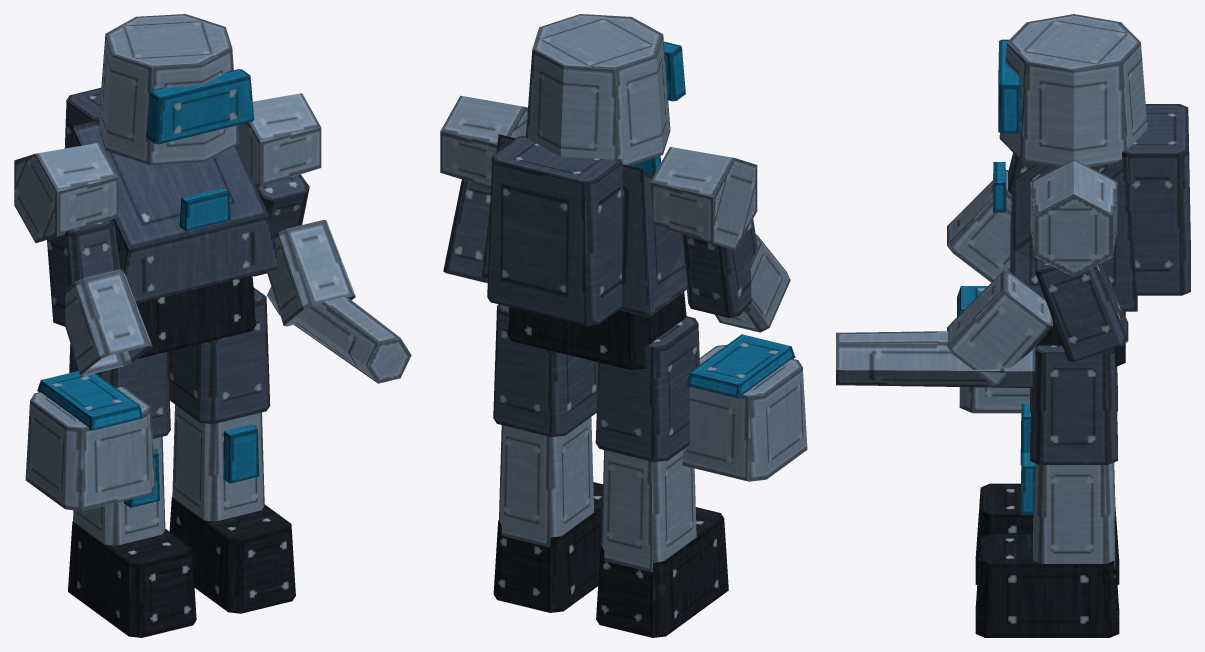
File: unit-engineer.fbx
The picture shows the model from 3 angles, left to right: view 1: azimuth 30°, elevation 25°; view 2: azimuth 150°, elevation 25°; view 3: azimuth 270°, elevation 25°; orthographic projection. The views are drawn at different scales.
Parts seen in each view (by area): view 1: unit-engineer; view 2: unit-engineer; view 3: unit-engineer.
Part boxes in pixels (x1,y1,x2,y2): unit-engineer: (14, 14, 411, 637); unit-engineer: (440, 14, 807, 637); unit-engineer: (836, 14, 1190, 637).
Size of the model in its own units: 127 by 230 by 134.
1 material, 1 textured.
